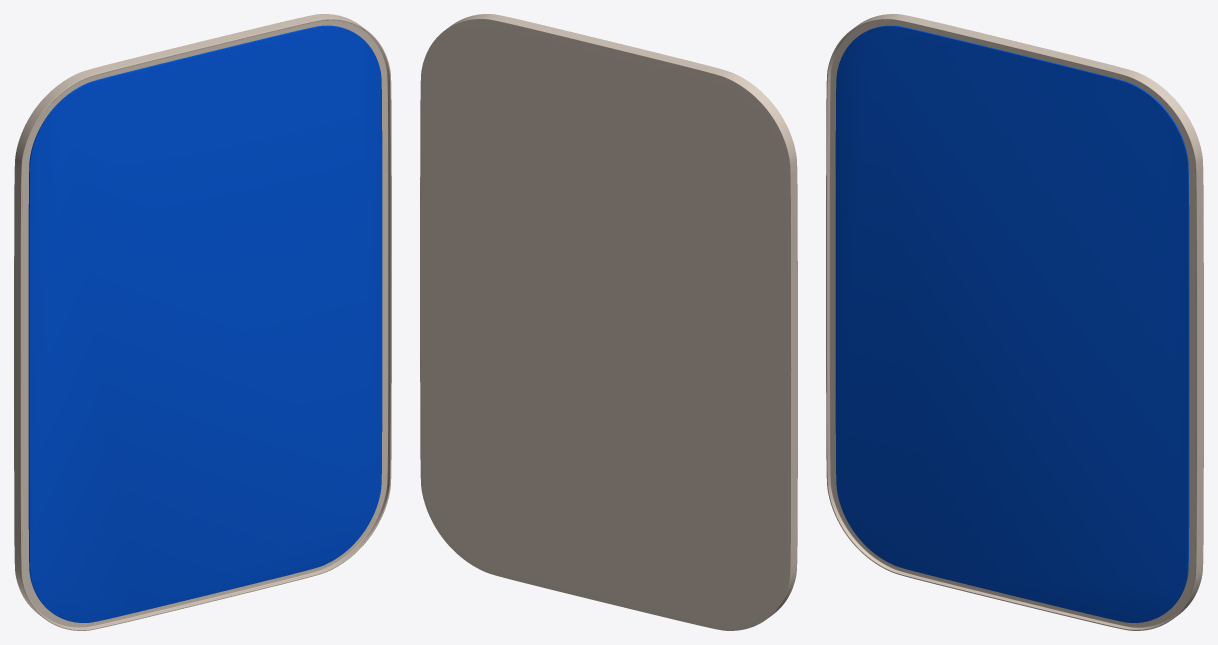
Rendered from Melody-M.glb.
3 renders of one model, left to right at view 1: azimuth 30°, elevation 25°; view 2: azimuth 150°, elevation 25°; view 3: azimuth 330°, elevation 25°, orthographic.
Visible parts, largest first — view 1: Melody; view 2: Melody; view 3: Melody.
Boxes of the visible parts, <box> form: Melody: <box>14,14,391,630</box>; Melody: <box>420,14,797,630</box>; Melody: <box>826,14,1203,630</box>.
Bounding box in the file's own units: 1.01 × 1.45 × 0.032.
